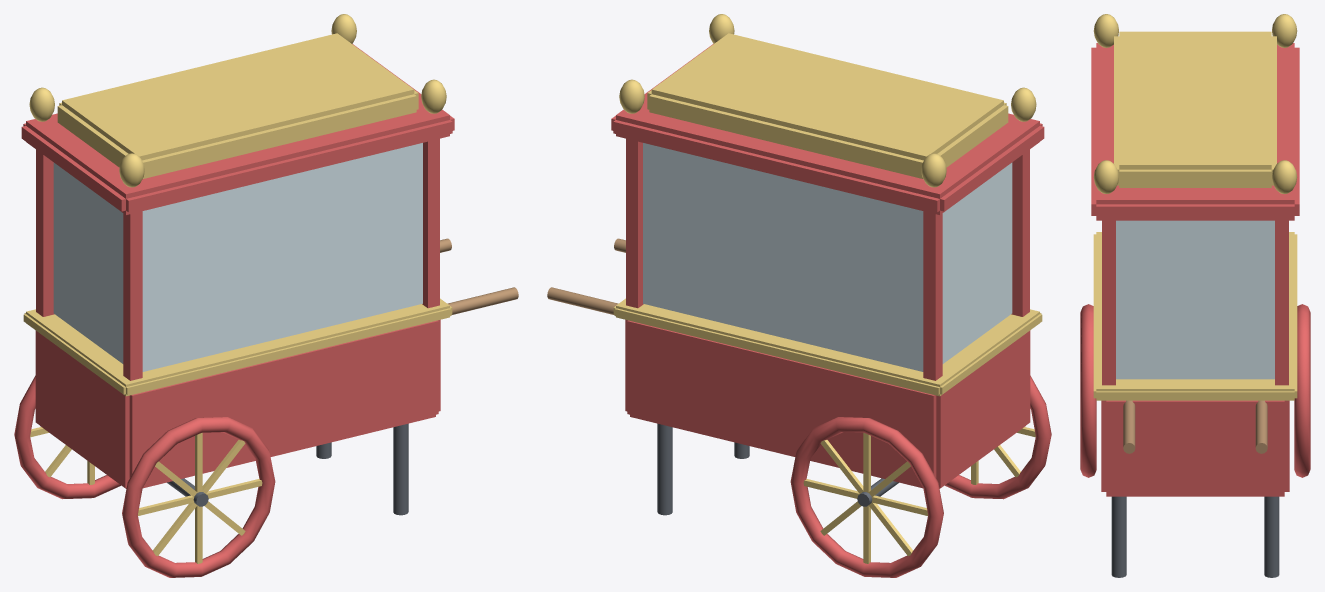
Rendered from OW_SimitCart.fbx.
3 renders of one model, left to right at view 1: azimuth 30°, elevation 25°; view 2: azimuth 150°, elevation 25°; view 3: azimuth 270°, elevation 25°, orthographic.
Visible parts, largest first — view 1: OW_SimitCart; view 2: OW_SimitCart; view 3: OW_SimitCart.
Part boxes in pixels (<box>): OW_SimitCart: <box>14,14,518,577</box>; OW_SimitCart: <box>547,14,1051,577</box>; OW_SimitCart: <box>1080,14,1310,577</box>.
Bounding box in the file's own units: 186 × 185 × 90.4.
